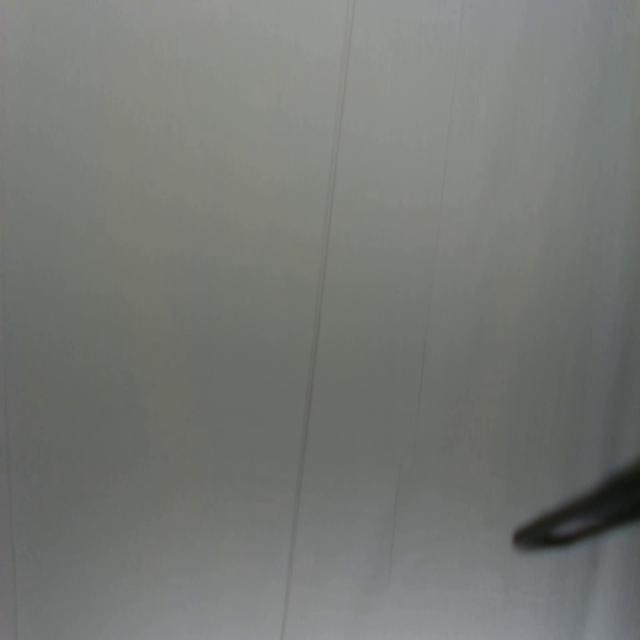crease: (279, 0, 356, 638), (411, 0, 467, 442), (0, 325, 21, 636), (386, 451, 406, 594)
